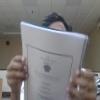notebook: (19, 20, 89, 99)
